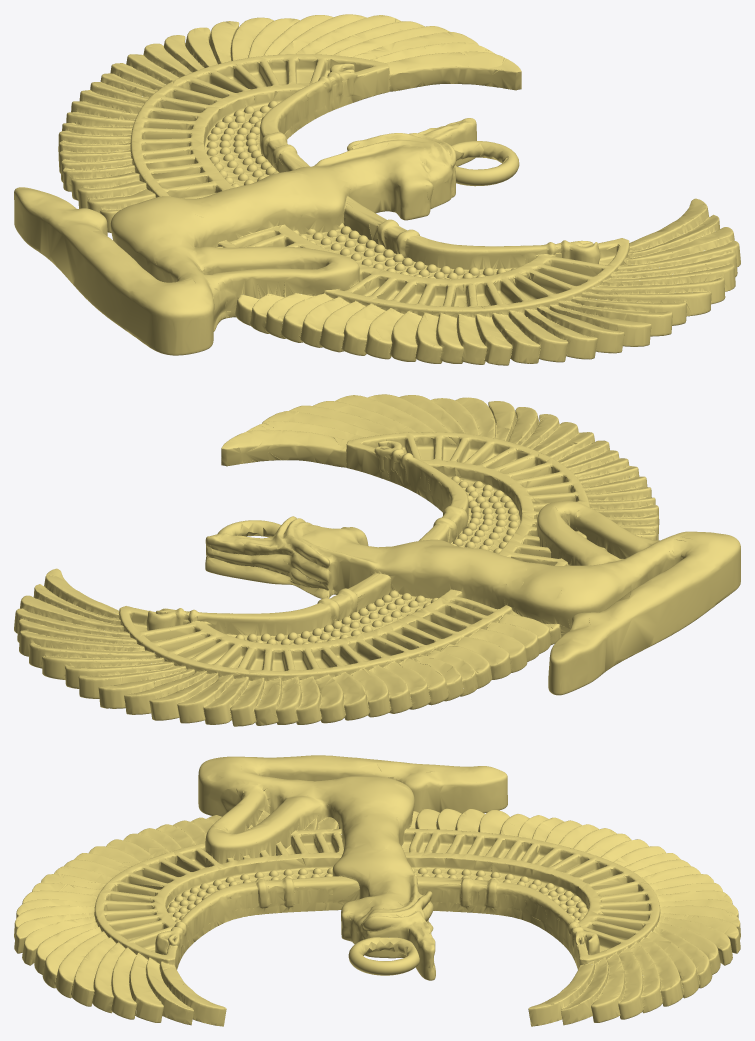
The model's file is misir_kolye.glb.
3 renders of one model, top to bottom at view 1: azimuth 30°, elevation 25°; view 2: azimuth 150°, elevation 25°; view 3: azimuth 270°, elevation 25°, orthographic. The views are drawn at different scales.
Parts seen in each view (by area): view 1: Renderer Node; view 2: Renderer Node; view 3: Renderer Node.
Boxes of the visible parts, x1=… form: Renderer Node: x1=14, y1=14, x2=740, y2=365; Renderer Node: x1=14, y1=394, x2=740, y2=726; Renderer Node: x1=14, y1=755, x2=740, y2=1026.
Bounding box in the file's own units: 22.64 × 2.34 × 29.92.
